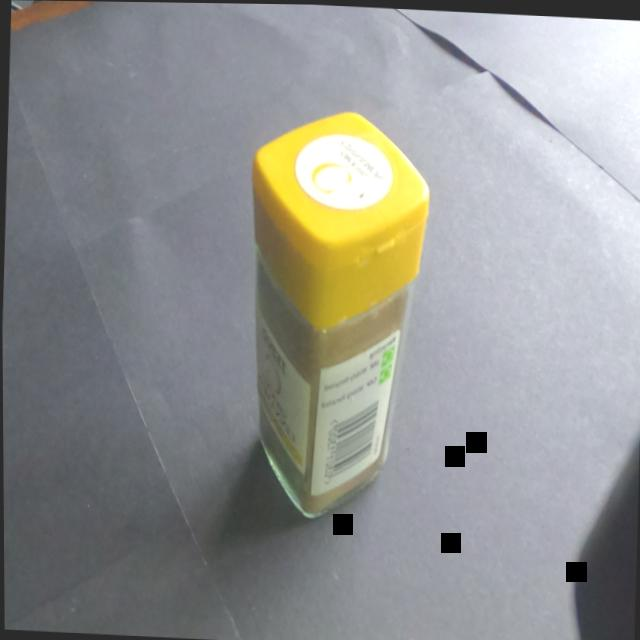Cinnamon: (216, 72, 449, 551)
